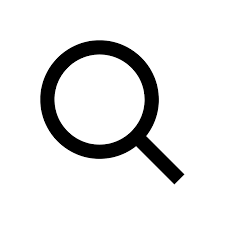searchIcon: (39, 38, 184, 184)
